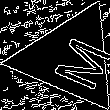M_NW: (34, 26, 106, 89)
